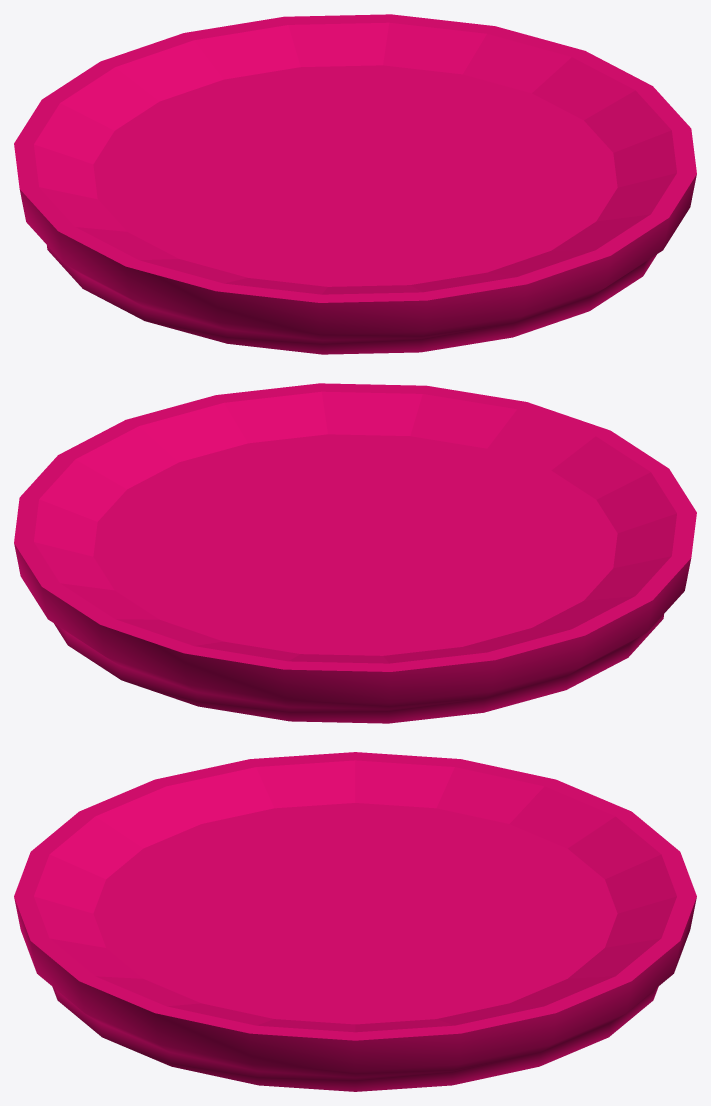
The model's file is Plant_Pot_05_Lod0.fbx.
3 renders of one model, top to bottom at view 1: azimuth 30°, elevation 25°; view 2: azimuth 150°, elevation 25°; view 3: azimuth 270°, elevation 25°, orthographic.
Visible parts, largest first — view 1: Plant_Pot_05_Lod0; view 2: Plant_Pot_05_Lod0; view 3: Plant_Pot_05_Lod0.
Boxes of the visible parts, bbox=[...] form: Plant_Pot_05_Lod0: bbox=[14, 14, 696, 354]; Plant_Pot_05_Lod0: bbox=[14, 383, 696, 723]; Plant_Pot_05_Lod0: bbox=[14, 752, 696, 1091].
Size of the model in its own units: 24.07 by 2.46 by 24.07.
